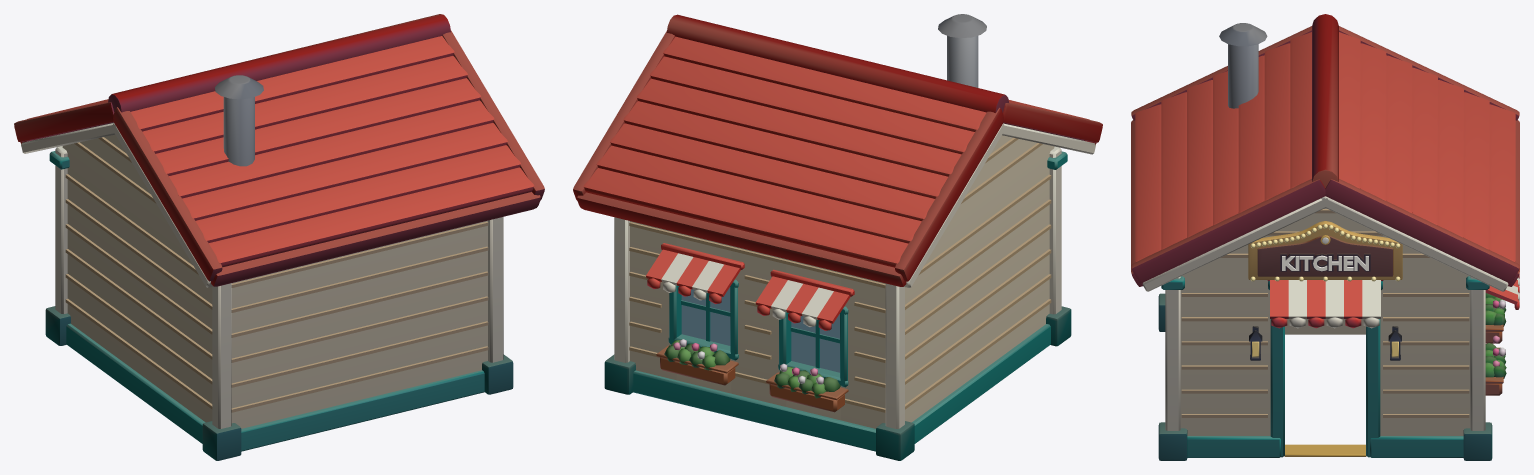
The model's file is KitchenV2.fbx.
The picture shows the model from 3 angles, left to right: view 1: azimuth 30°, elevation 25°; view 2: azimuth 150°, elevation 25°; view 3: azimuth 270°, elevation 25°; orthographic projection. The views are drawn at different scales.
Parts seen in each view (by area): view 1: SM_Bld_KitchenV2_Roof, SM_Bld_KitchenV2_Walls, SM_Bld_KitchenV2_Trim; view 2: SM_Bld_KitchenV2_Roof, SM_Bld_KitchenV2_Walls, SM_Bld_KitchenV2_Trim, SM_Bld_KitchenV2_Awning, SM_Bld_KitchenV2_Flowers, SM_Bld_KitchenV2_Glass; view 3: SM_Bld_KitchenV2_Roof, SM_Bld_KitchenV2_Walls, SM_Bld_KitchenV2_Trim, SM_Bld_KitchenV2_Sign, SM_Bld_KitchenV2_Awning, SM_Bld_KitchenV2_Glow, SM_Bld_KitchenV2_Flowers.
Part boxes in pixels (bbox=[...]): SM_Bld_KitchenV2_Roof: bbox=[14, 14, 544, 286]; SM_Bld_KitchenV2_Walls: bbox=[62, 134, 488, 428]; SM_Bld_KitchenV2_Trim: bbox=[21, 122, 513, 460]; SM_Bld_KitchenV2_Roof: bbox=[573, 14, 1102, 286]; SM_Bld_KitchenV2_Walls: bbox=[629, 135, 1054, 428]; SM_Bld_KitchenV2_Trim: bbox=[604, 123, 1095, 460]; SM_Bld_KitchenV2_Awning: bbox=[646, 243, 854, 330]; SM_Bld_KitchenV2_Flowers: bbox=[656, 339, 848, 412]; SM_Bld_KitchenV2_Glass: bbox=[681, 287, 839, 372]; SM_Bld_KitchenV2_Roof: bbox=[1131, 14, 1519, 286]; SM_Bld_KitchenV2_Walls: bbox=[1180, 208, 1470, 435]; SM_Bld_KitchenV2_Trim: bbox=[1142, 196, 1508, 460]; SM_Bld_KitchenV2_Sign: bbox=[1248, 221, 1402, 279]; SM_Bld_KitchenV2_Awning: bbox=[1267, 274, 1519, 328]; SM_Bld_KitchenV2_Glow: bbox=[1250, 224, 1400, 356]; SM_Bld_KitchenV2_Flowers: bbox=[1485, 293, 1506, 395].
Size of the model in its own units: 19.09 by 17.46 by 18.92.
